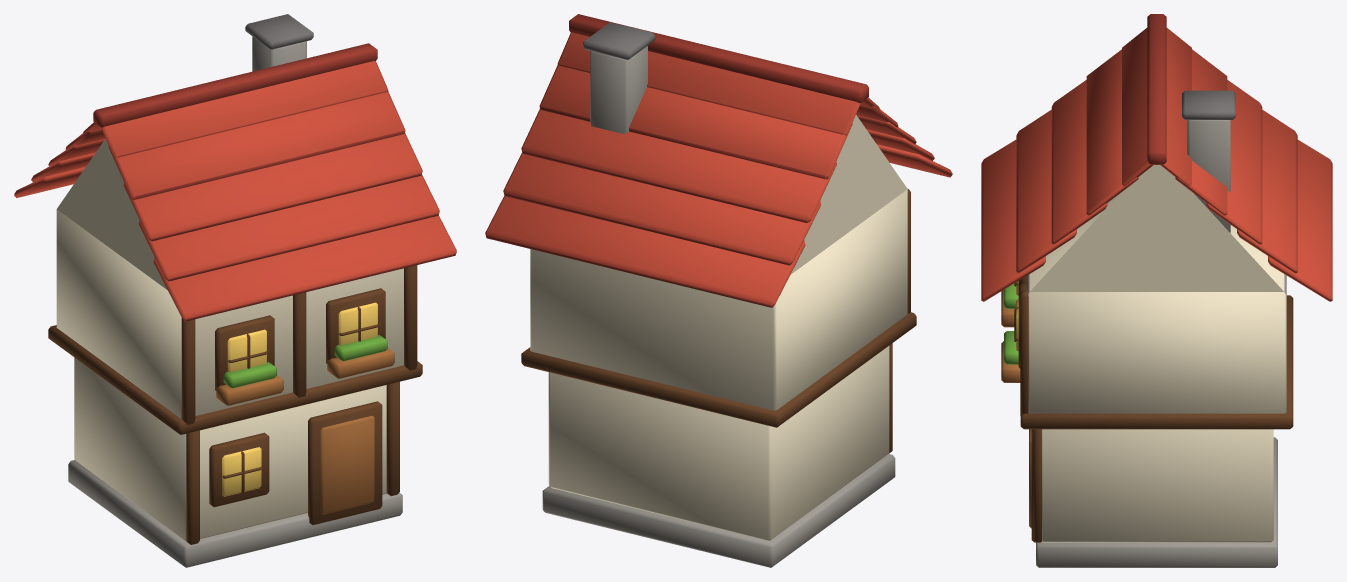
File: B_MedTownhouse.fbx
3 renders of one model, left to right at view 1: azimuth 30°, elevation 25°; view 2: azimuth 150°, elevation 25°; view 3: azimuth 270°, elevation 25°, orthographic. The views are drawn at different scales.
Visible parts, largest first — view 1: M_Townhouse; view 2: M_Townhouse; view 3: M_Townhouse.
Part boxes in pixels (x1,y1,x2,y2): M_Townhouse: (14,14,456,567); M_Townhouse: (485,14,952,567); M_Townhouse: (981,14,1332,567).
Size of the model in its own units: 3.81 by 5.72 by 4.06.
Materials: 1 (1 with a texture image).
